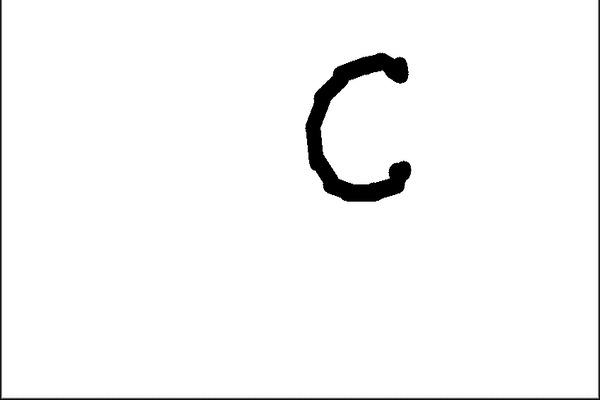C: (301, 46, 418, 205)
